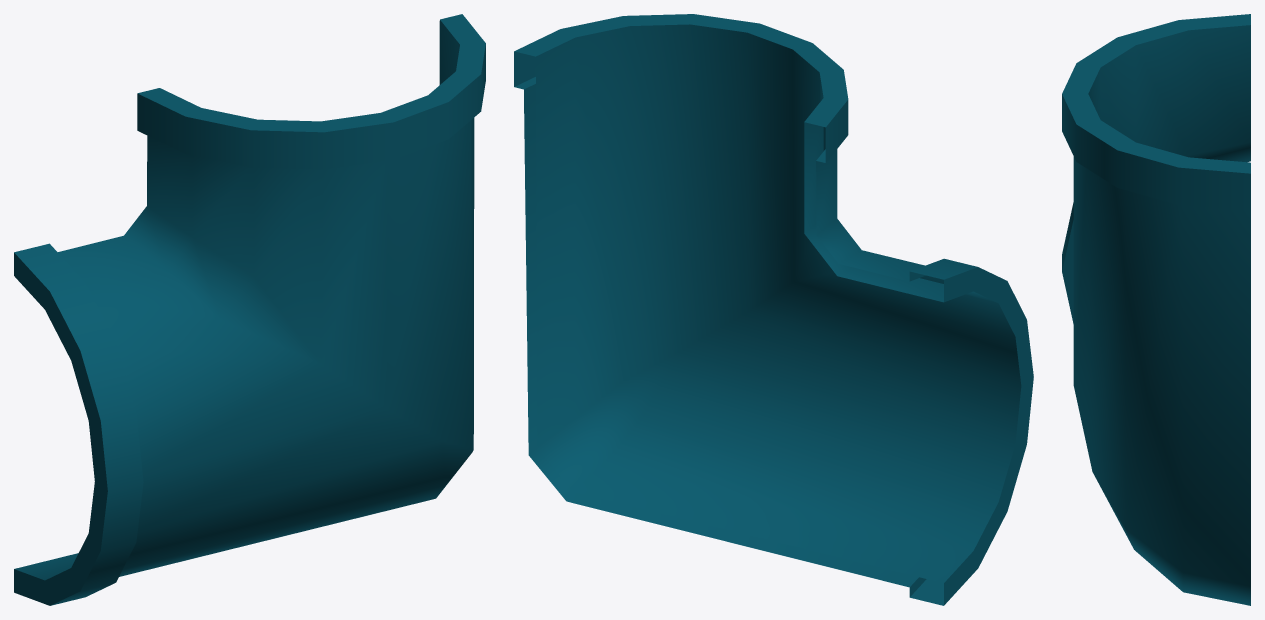
File: Modulo4_L_Blockout_Cobertura.FBX
The picture shows the model from 3 angles, left to right: view 1: azimuth 30°, elevation 25°; view 2: azimuth 150°, elevation 25°; view 3: azimuth 270°, elevation 25°; orthographic projection. The views are drawn at different scales.
Parts seen in each view (by area): view 1: Tubo_Modulo4_L_Covertura; view 2: Tubo_Modulo4_L_Covertura; view 3: Tubo_Modulo4_L_Covertura.
Part boxes in pixels (x1,y1,x2,y2): Tubo_Modulo4_L_Covertura: (14, 14, 485, 605); Tubo_Modulo4_L_Covertura: (514, 14, 1033, 605); Tubo_Modulo4_L_Covertura: (1062, 14, 1250, 605).
Bounding box in the file's own units: 142 × 142 × 51.47.
